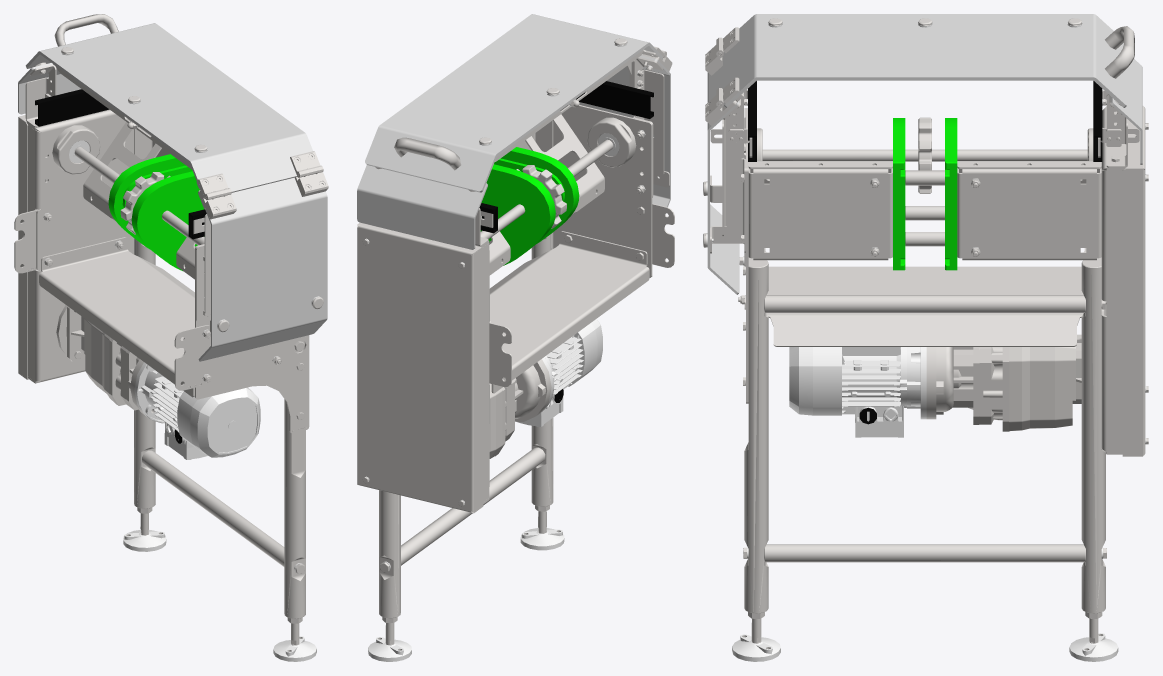
3 renders of one model, left to right at view 1: azimuth 30°, elevation 25°; view 2: azimuth 150°, elevation 25°; view 3: azimuth 270°, elevation 25°, orthographic. The views are drawn at different scales.
Parts seen in each view (by area): view 1: base, glass; view 2: base, glass; view 3: base, glass.
Part boxes in pixels (x1,y1,x2,y2): base: (14, 14, 328, 661); glass: (18, 23, 327, 361); base: (357, 38, 674, 661); glass: (357, 14, 670, 249); base: (703, 18, 1148, 661); glass: (707, 14, 1142, 294).
Size of the model in its own units: 0.307 by 1.06 by 0.7286.
Materials: 1 (1 with a texture image).
